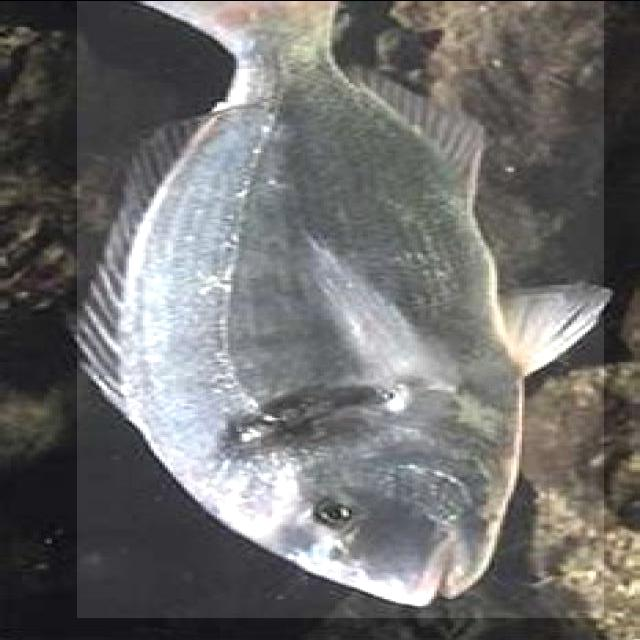Healthy Fish: (77, 0, 604, 617)
